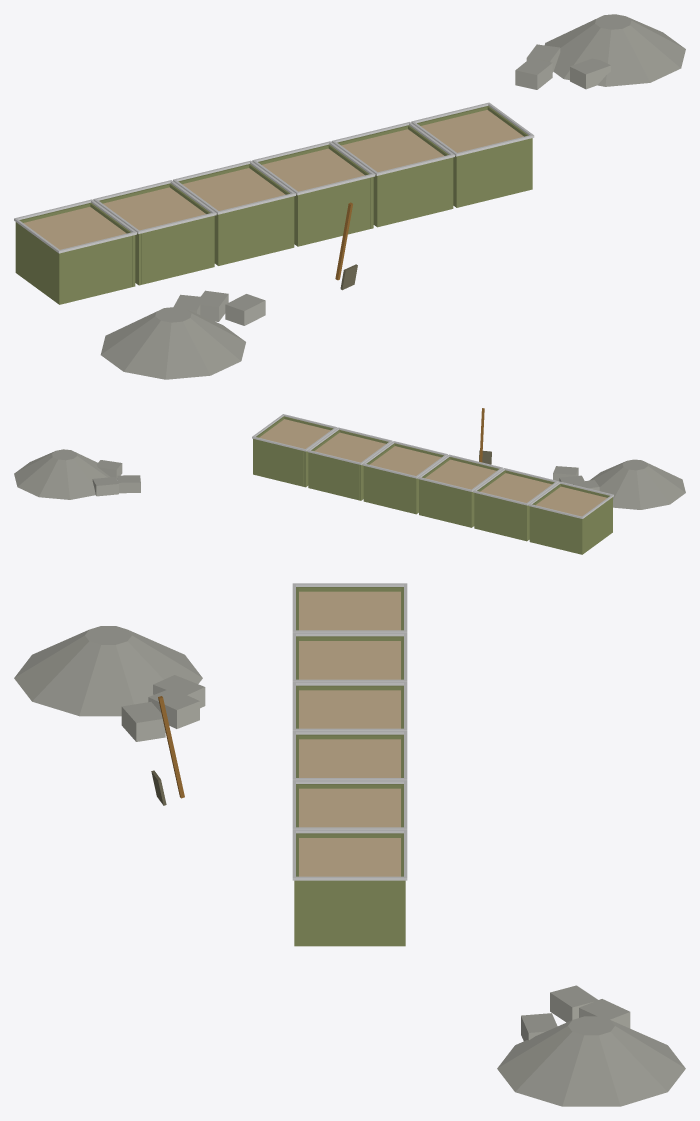
The model's file is SM_ObraReconstruccion_v1_10m_LOD0.fbx.
3 views of the same model, one above another, from view 1: azimuth 30°, elevation 25°; view 2: azimuth 150°, elevation 25°; view 3: azimuth 270°, elevation 25° (orthographic). The views are drawn at different scales.
Visible parts, largest first — view 1: SM_obra_curso_v43_LOD0; view 2: SM_obra_curso_v43_LOD0; view 3: SM_obra_curso_v43_LOD0.
Boxes of the visible parts, x1,y1,x2,y2 form: SM_obra_curso_v43_LOD0: (14,14,685,379); SM_obra_curso_v43_LOD0: (14,408,685,554); SM_obra_curso_v43_LOD0: (14,583,685,1106).
Size of the model in its own units: 10.51 by 1.11 by 6.4.
